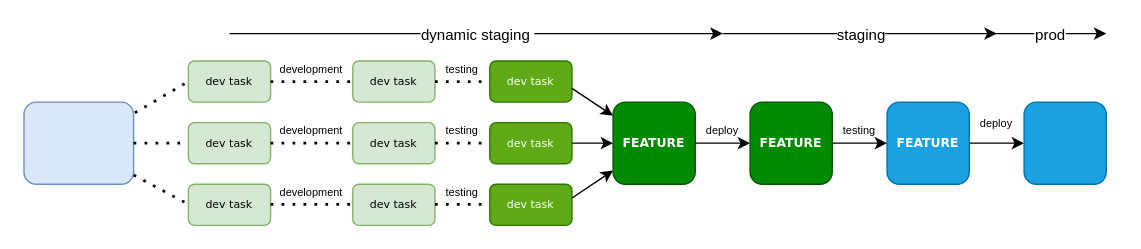
Some shapes in this 1141 by 249 pixel diagram are drawn without their labels. The centre of each missing label's shape, as x and y in pixels:
"FEATURE READY" goes at point (1064, 142).
"FEATURE TASK JIRA" goes at point (78, 142).
